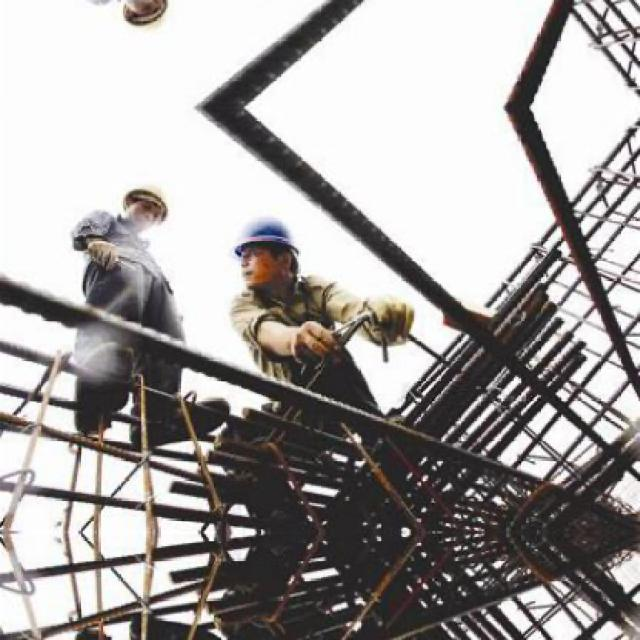helmet: (226, 204, 302, 298), (112, 180, 172, 238), (111, 0, 172, 34)
